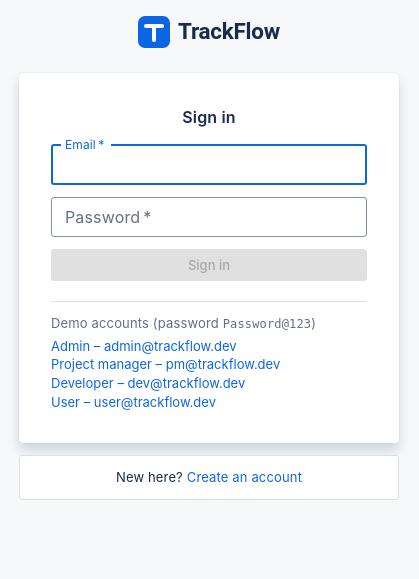
LoginPage › shows the API error when credentials are wrong
Step 1. Type "admin@trackflow.dev" into the field labelled "Email *" → (209,165), box [51, 145, 367, 185]
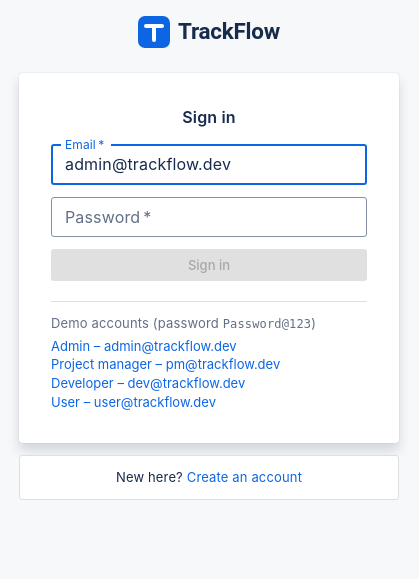
Step 2. Type "wrong-password" into the password field labelled "Password *" → (209,217), box [51, 197, 367, 237]
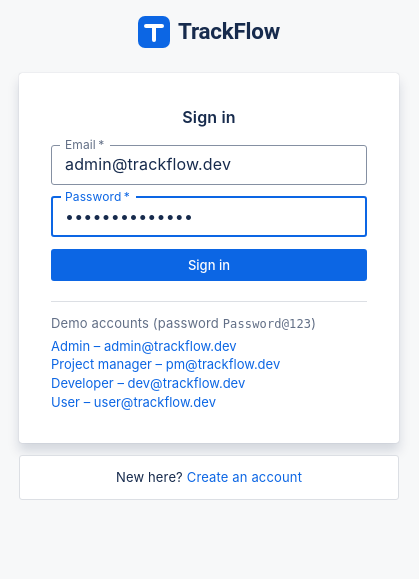
Step 3. Click the button "Sign in" → (209,265), box [51, 249, 367, 281]
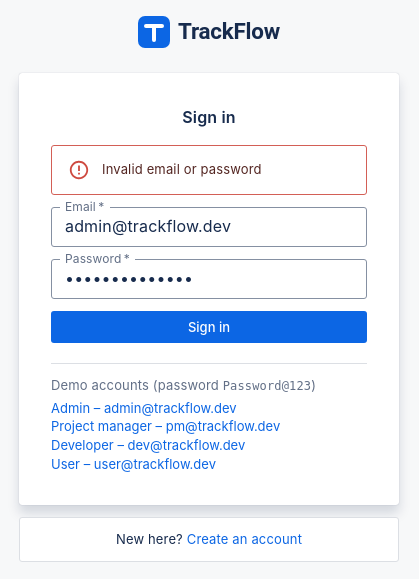
Expected: the text "Invalid email or password" is shown, [102, 161, 262, 177]
